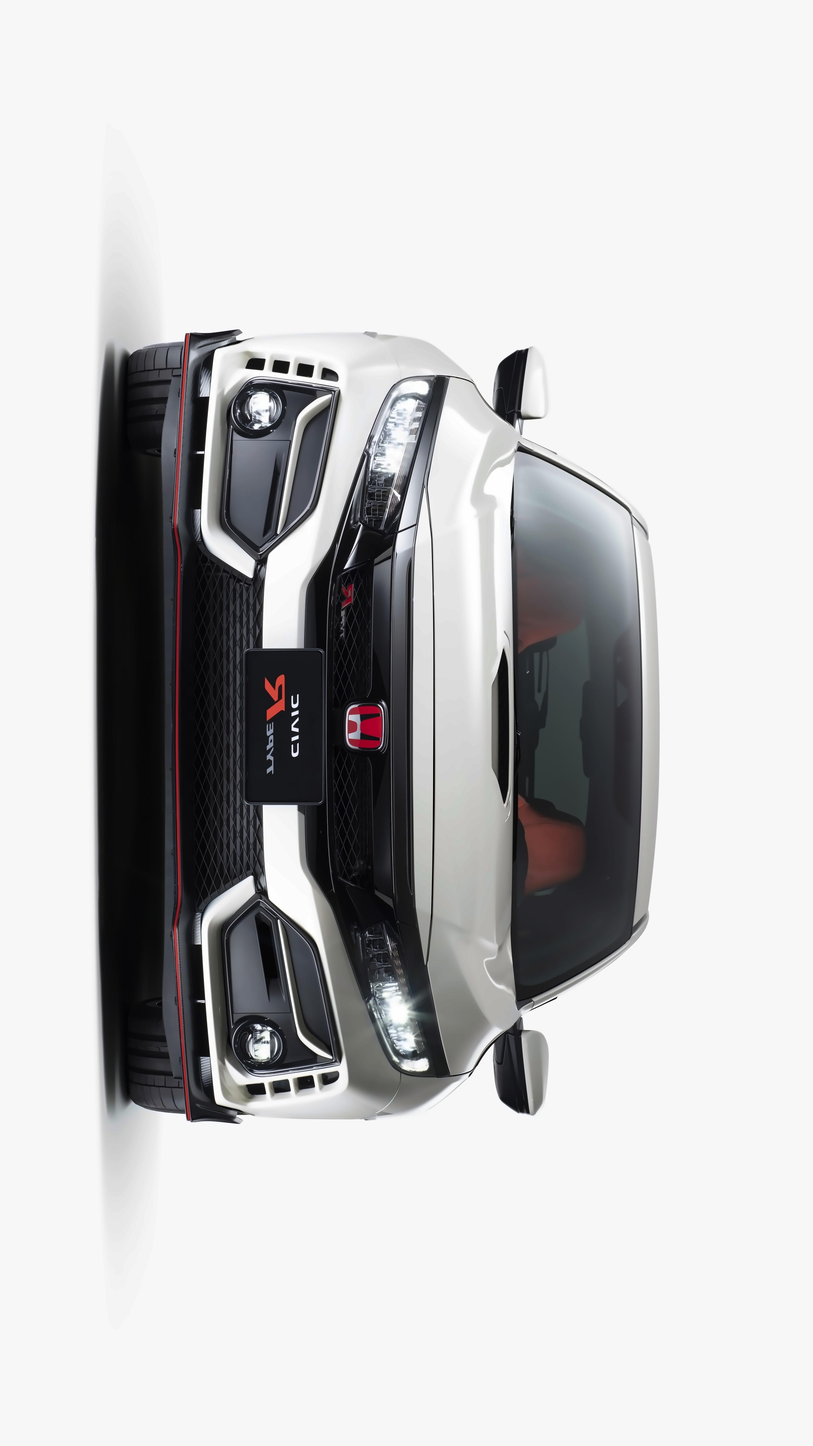Car hood: (396, 362, 523, 1078)
Front bumper: (141, 323, 387, 1129)
Headlight - -L-: (331, 896, 459, 1088)
Headlight - -R-: (328, 365, 454, 567)
Side mirror - -L-: (475, 1014, 569, 1129)
Side mirror - -R-: (469, 328, 580, 441)
